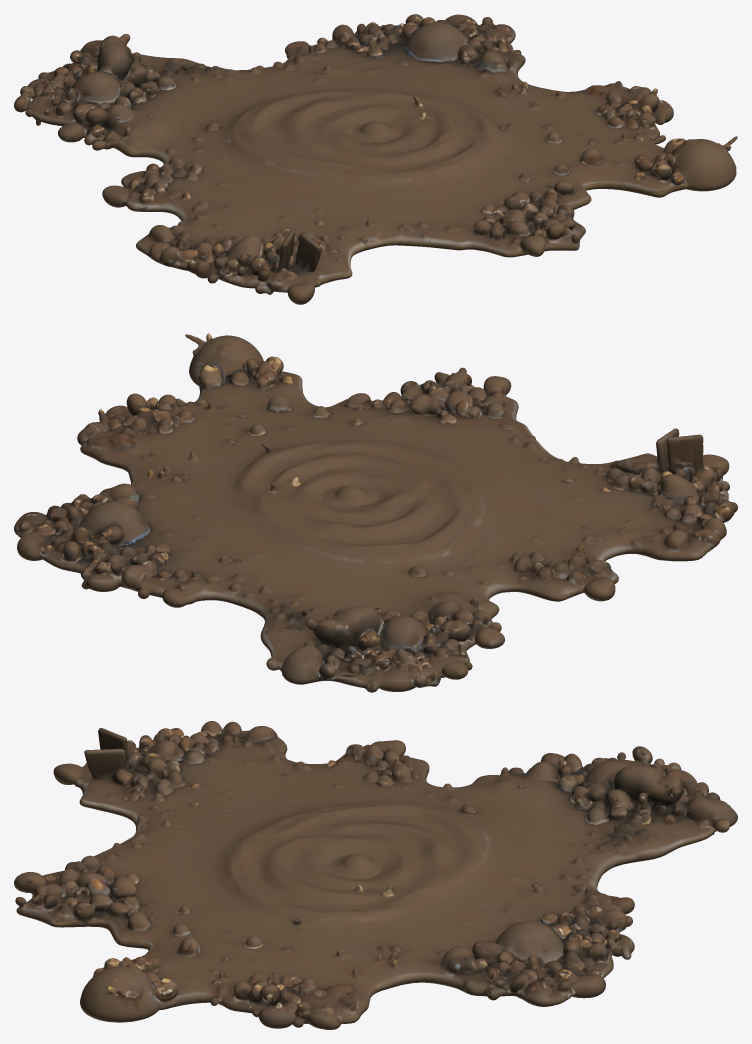
The model's file is nature-mud-puddle.glb.
3 renders of one model, top to bottom at view 1: azimuth 30°, elevation 25°; view 2: azimuth 150°, elevation 25°; view 3: azimuth 270°, elevation 25°, orthographic. The views are drawn at different scales.
Parts seen in each view (by area): view 1: tripo_node_18e0759c-01eb-49e0-8033-85f18cc10f3f; view 2: tripo_node_18e0759c-01eb-49e0-8033-85f18cc10f3f; view 3: tripo_node_18e0759c-01eb-49e0-8033-85f18cc10f3f.
Part boxes in pixels (<box>): tripo_node_18e0759c-01eb-49e0-8033-85f18cc10f3f: <box>14,14,737,304</box>; tripo_node_18e0759c-01eb-49e0-8033-85f18cc10f3f: <box>14,333,737,692</box>; tripo_node_18e0759c-01eb-49e0-8033-85f18cc10f3f: <box>14,721,737,1029</box>.
Bounding box in the file's own units: 1.11 × 0.1 × 1.15.
Materials: 1 (1 with a texture image).
